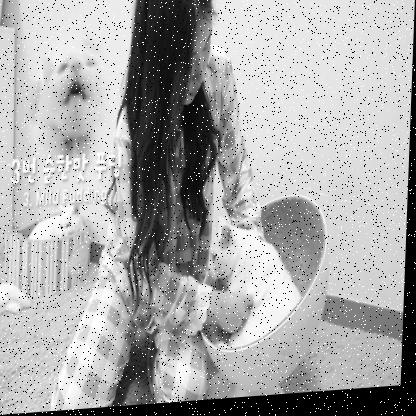streamer: (54, 0, 274, 412)
